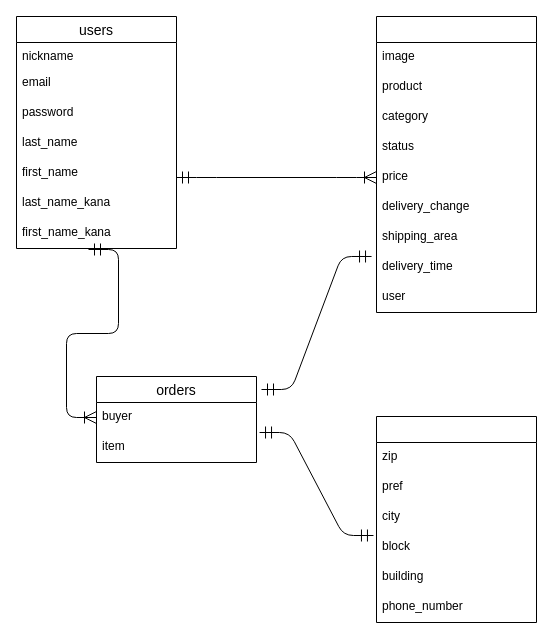
This 553x639 diagram has some shape labels left out. Each missing label, with the box of its shape:
destinations: (376, 416, 536, 622)
items: (376, 16, 536, 312)
